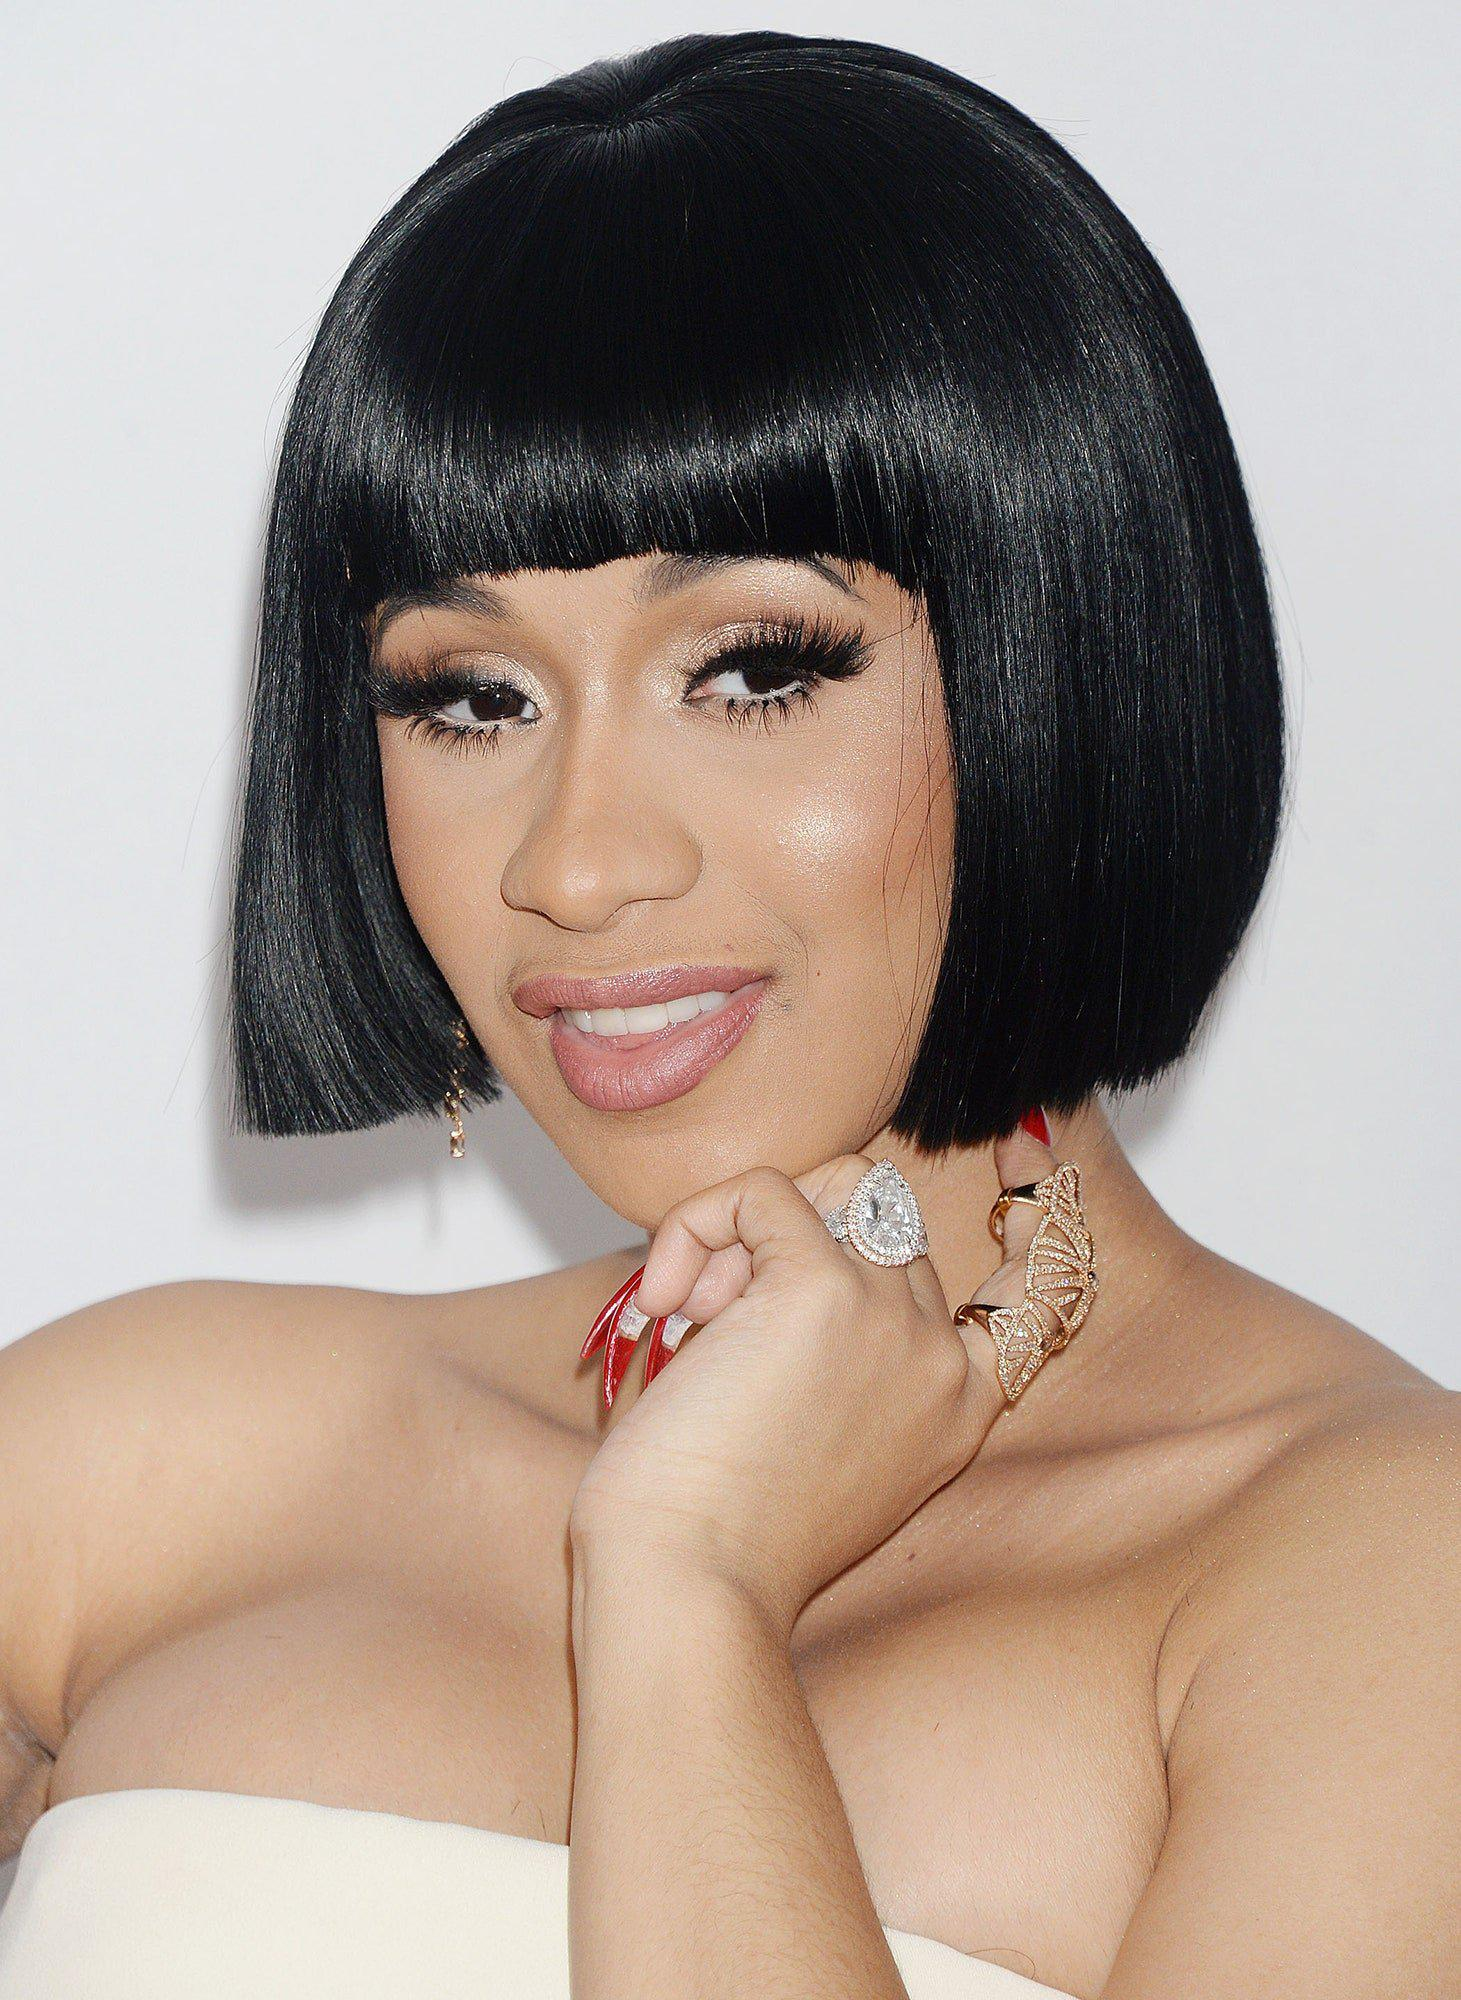Sober: (346, 536, 953, 1161)
